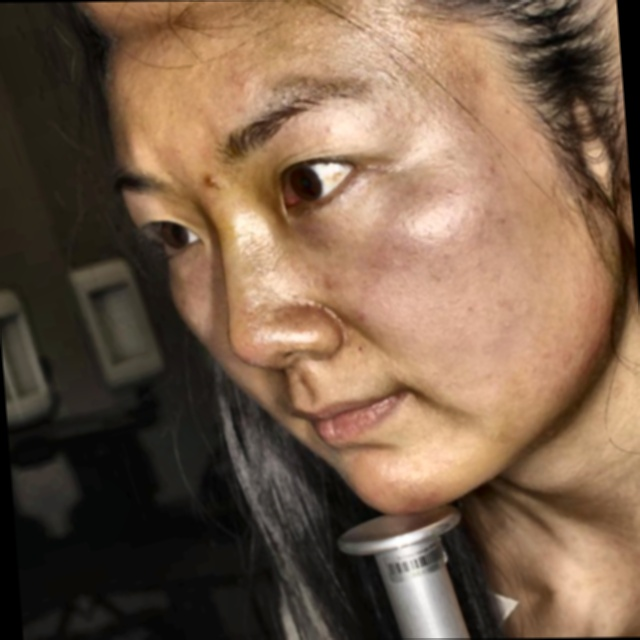comedone: (192, 161, 227, 195)
